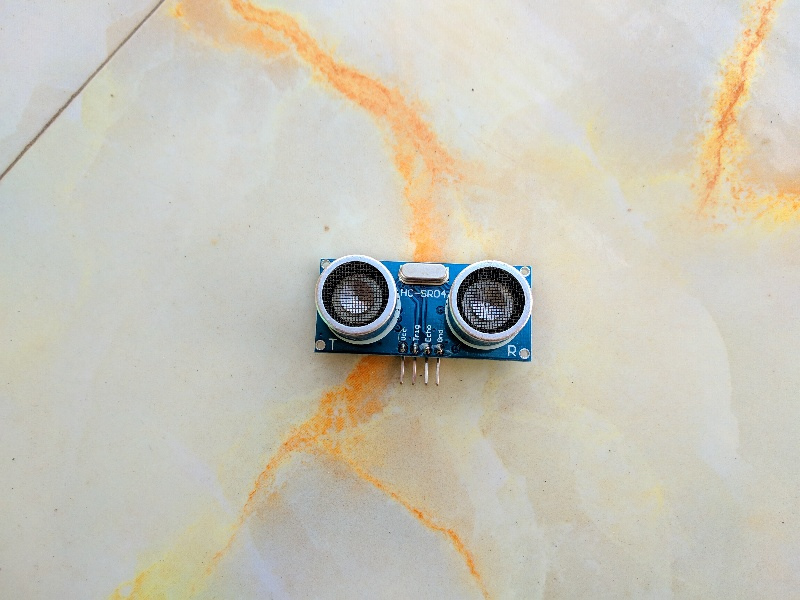Sonar Sensor: (305, 246, 545, 374)
